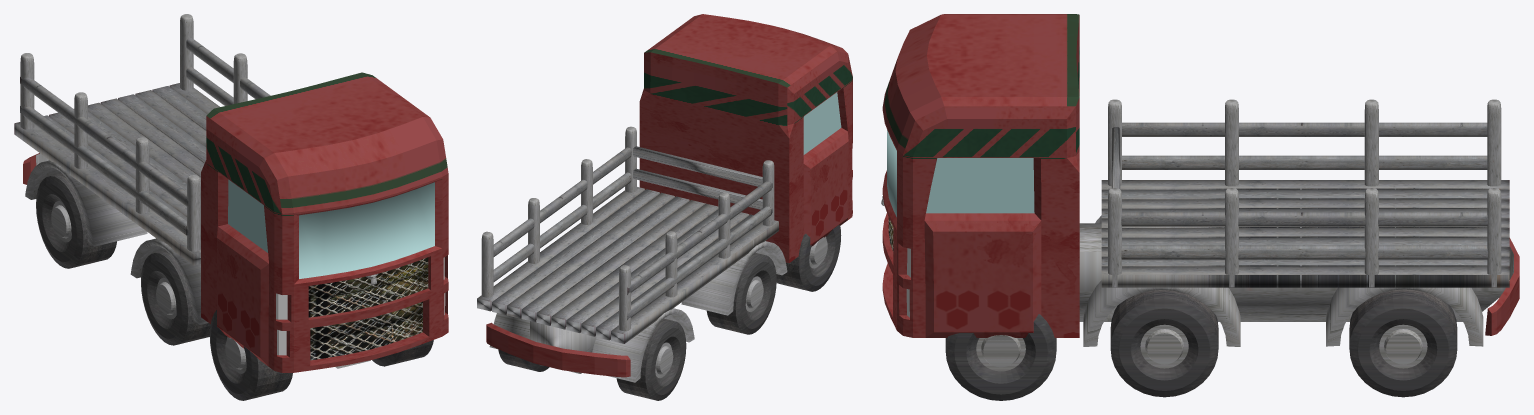
The model's file is Truck 4.fbx.
3 renders of one model, left to right at view 1: azimuth 30°, elevation 25°; view 2: azimuth 150°, elevation 25°; view 3: azimuth 270°, elevation 25°, orthographic. The views are drawn at different scales.
Visible parts, largest first — view 1: Cube.003; view 2: Cube.003; view 3: Cube.003.
Boxes of the visible parts, <box> form: Cube.003: <box>14,14,448,400</box>; Cube.003: <box>477,14,852,400</box>; Cube.003: <box>881,14,1519,400</box>.
Size of the model in its own units: 539 by 734 by 1433.
